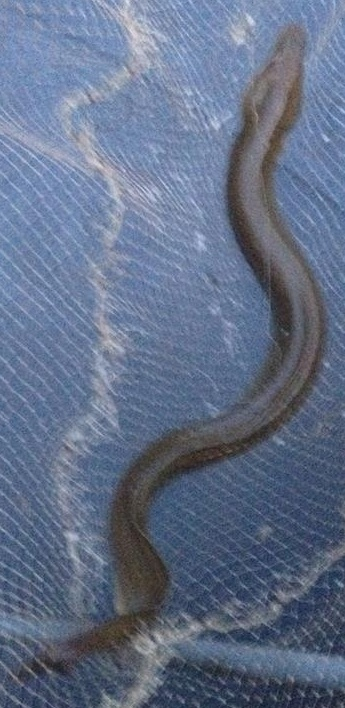Anguilla anguilla: (20, 20, 325, 688)
